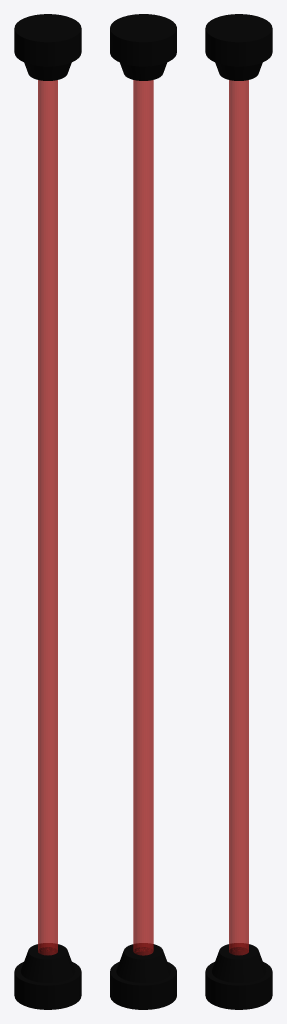
File: redlaser.fbx
3 views of the same model, side by side, from view 1: azimuth 90°, elevation 25°; view 2: azimuth 150°, elevation 25°; view 3: azimuth 270°, elevation 25° (orthographic).
Parts seen in each view (by area): view 1: RedOneSide.002, RedOneSide.003, RedOneSide.001; view 2: RedOneSide.002, RedOneSide.003, RedOneSide.001; view 3: RedOneSide.002, RedOneSide.003, RedOneSide.001.
Boxes of the visible parts, left/top/right/bottom form: RedOneSide.002: left=38, top=80, right=57, bottom=955; RedOneSide.003: left=14, top=14, right=81, bottom=80; RedOneSide.001: left=14, top=943, right=81, bottom=1009; RedOneSide.002: left=133, top=80, right=153, bottom=955; RedOneSide.003: left=110, top=14, right=176, bottom=80; RedOneSide.001: left=110, top=943, right=176, bottom=1009; RedOneSide.002: left=229, top=80, right=248, bottom=955; RedOneSide.003: left=205, top=14, right=272, bottom=80; RedOneSide.001: left=205, top=943, right=272, bottom=1009.
Bounding box in the file's own units: 16.32 × 260 × 16.32.
